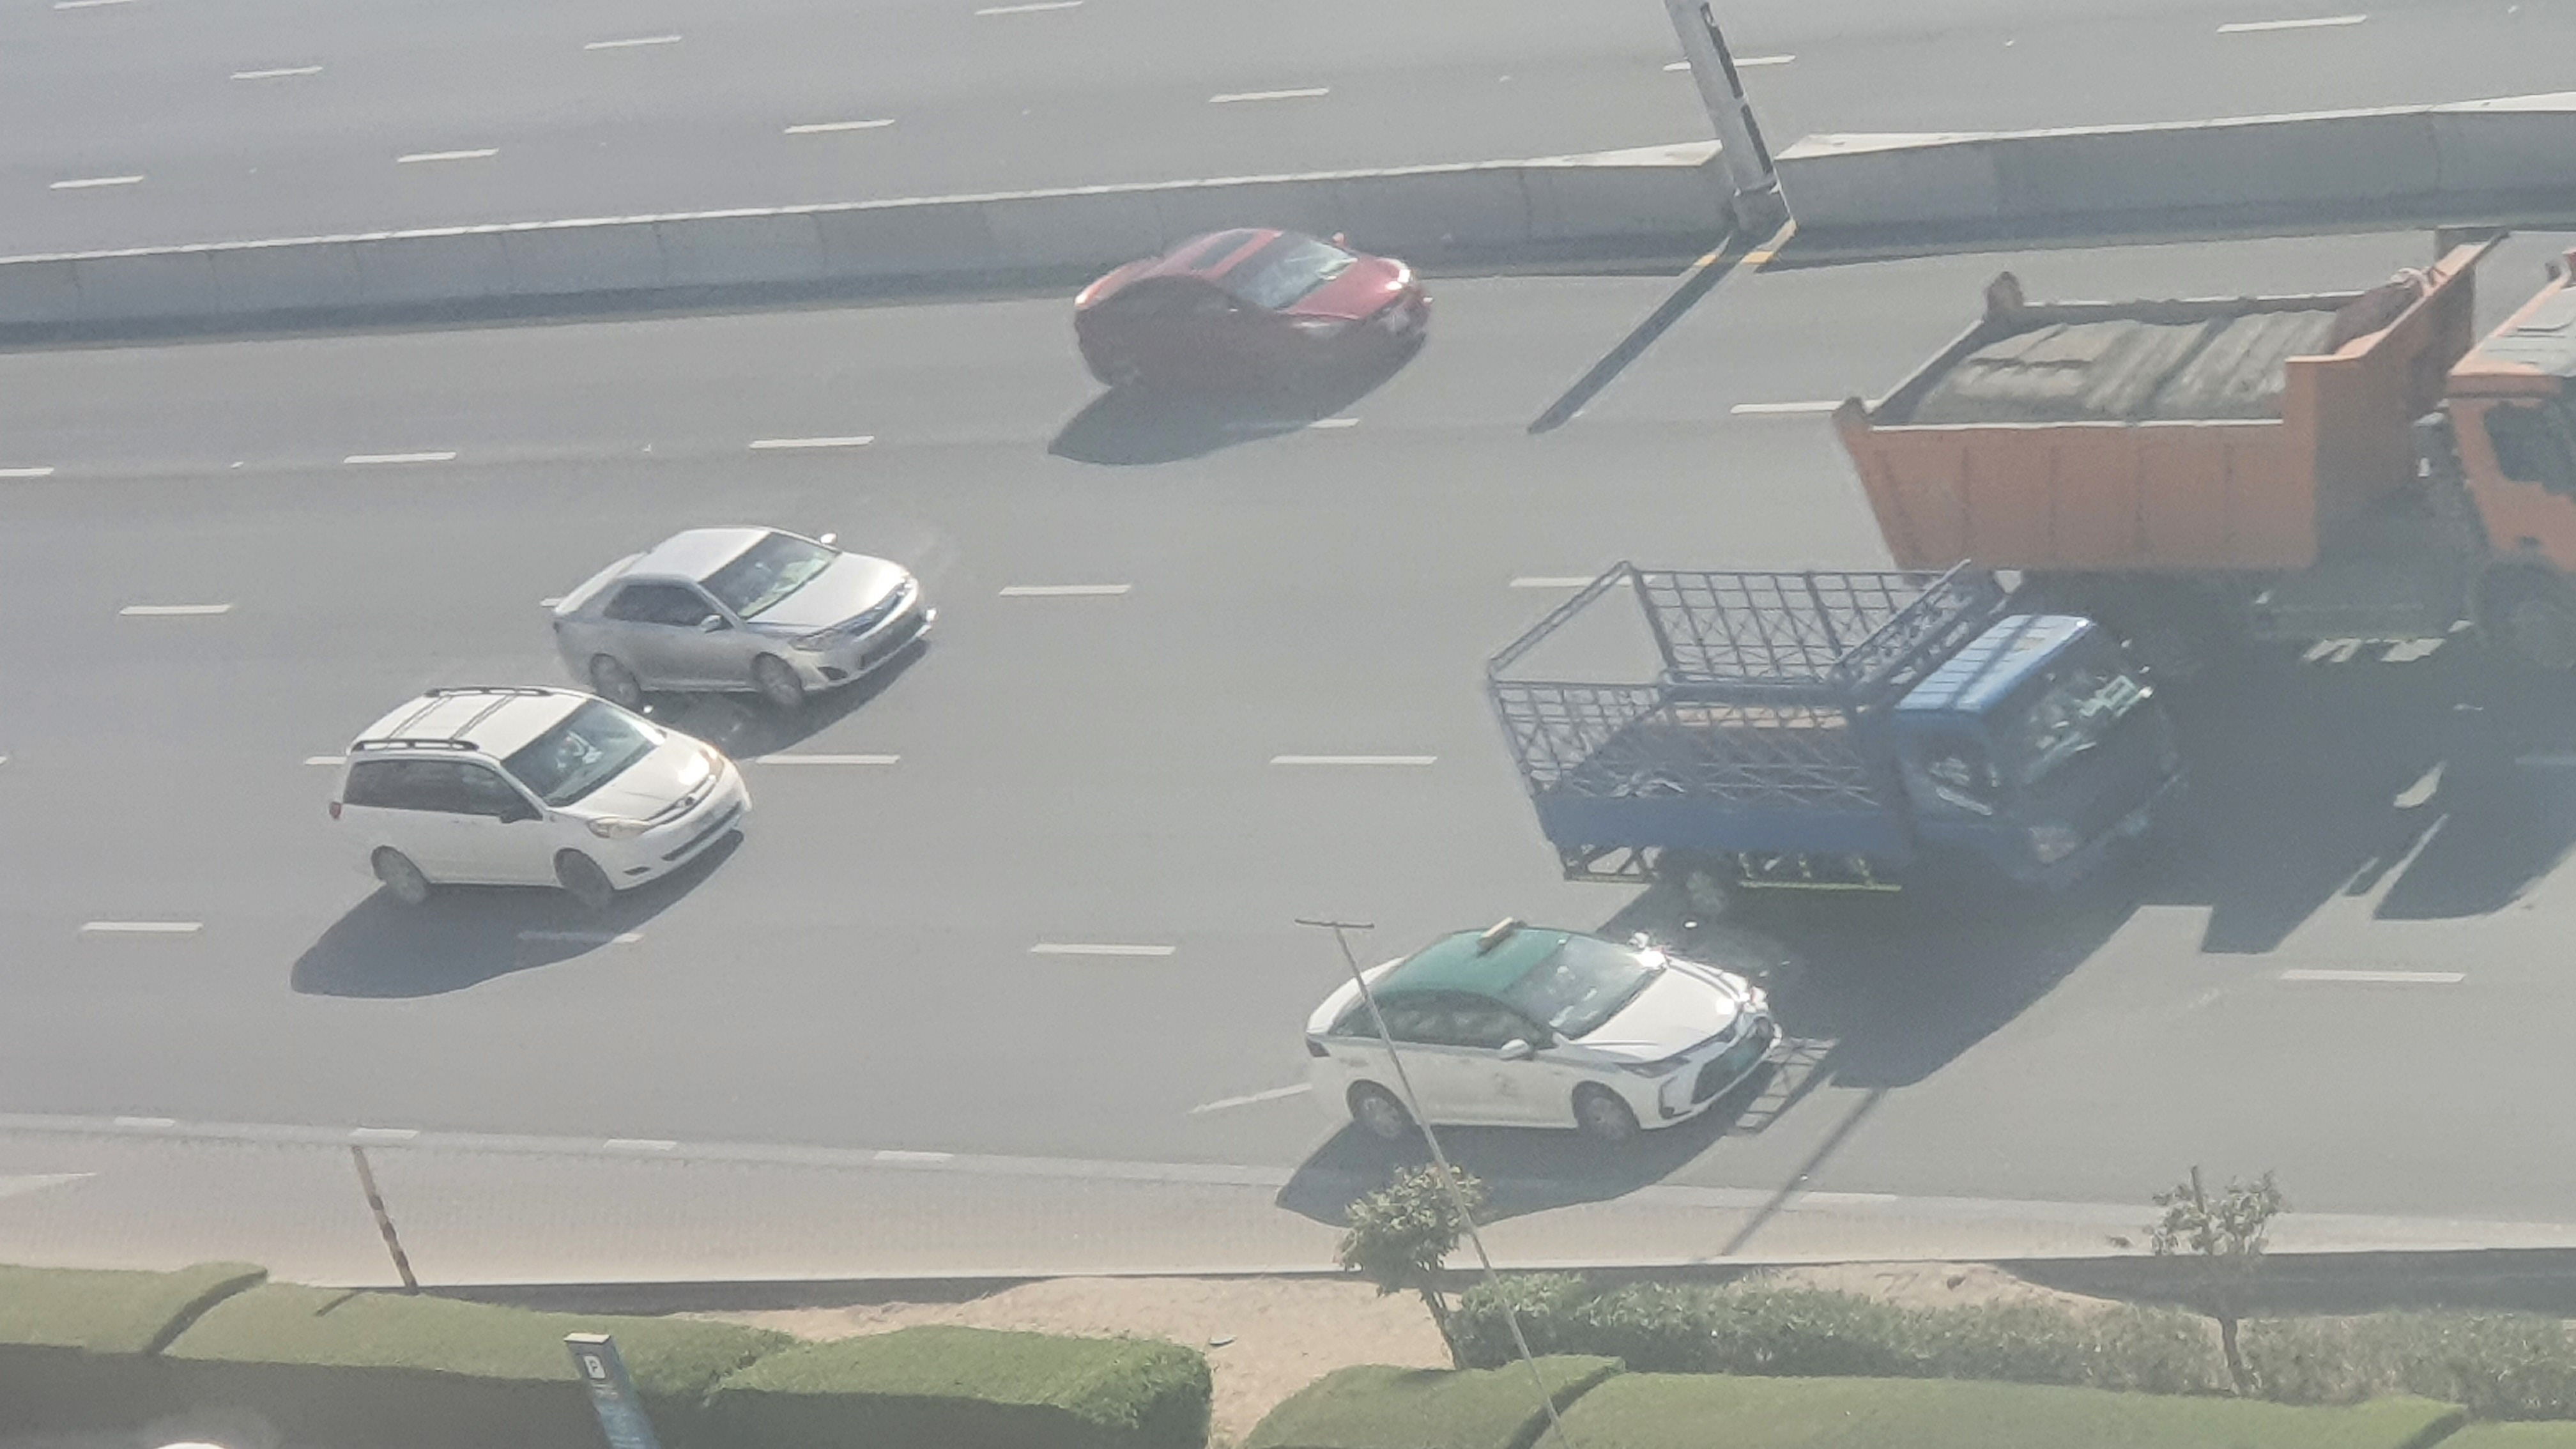NotSunroof: (1288, 913, 1789, 1157), (329, 694, 748, 920), (540, 529, 931, 722)
Sunroof: (1069, 226, 1428, 412)
